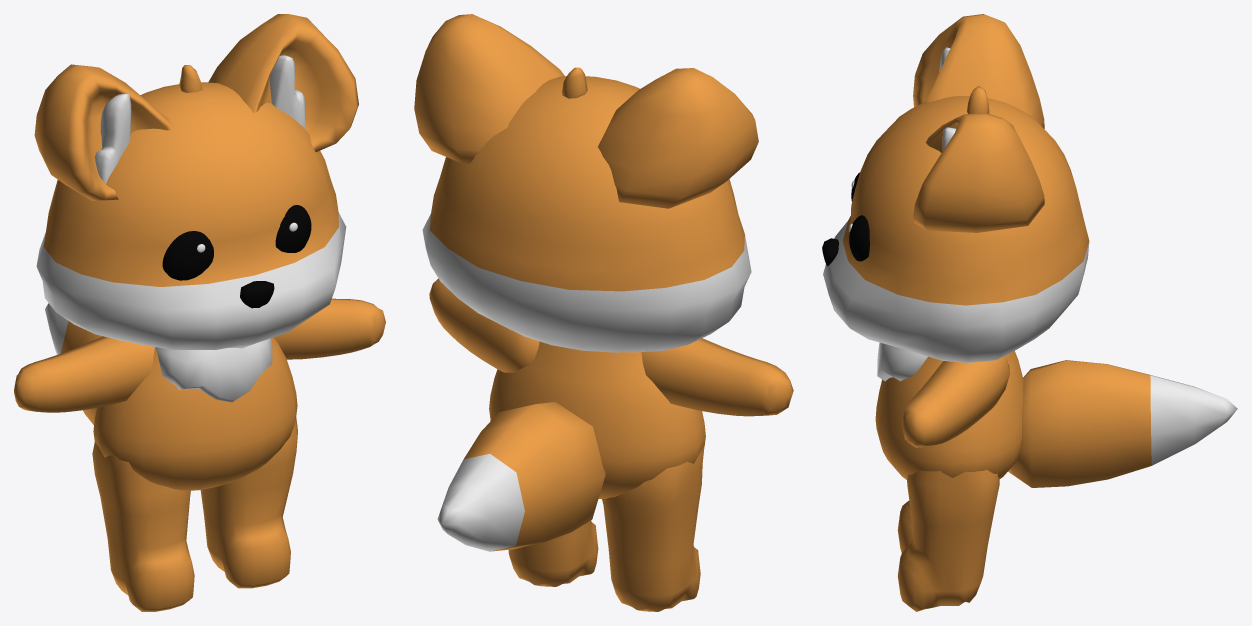
Rendered from fox.fbx.
3 renders of one model, left to right at view 1: azimuth 30°, elevation 25°; view 2: azimuth 150°, elevation 25°; view 3: azimuth 270°, elevation 25°, orthographic. The views are drawn at different scales.
Visible parts, largest first — view 1: pSphere1, pSphere2, pasted__pCube1, pasted__pCube5, pCube1, pasted__pCube4, pasted__pCube2, pCube5, pCube2, pasted__pCube6, pSphere3, pCube6 (+4 smaller); view 2: pSphere1, pCube3, pSphere2, pasted__pCube4, pasted__pCube5, pasted__pCube1, pasted__pCube2, pCube2, pCube1, pCube8; view 3: pSphere1, pCube3, pasted__pCube5, pCube1, pSphere2, pasted__pCube4, pCube2, pCube5, pSphere4, pasted__pCube1.
Boxes of the visible parts, x1,y1,x2,y2 form: pSphere1: (36, 82, 346, 349); pSphere2: (93, 337, 297, 490); pasted__pCube1: (92, 442, 194, 611); pasted__pCube5: (208, 14, 358, 151); pCube1: (200, 416, 297, 588); pasted__pCube4: (34, 64, 174, 200); pasted__pCube2: (14, 336, 154, 412); pCube5: (156, 338, 272, 402); pCube2: (274, 298, 385, 359); pasted__pCube6: (95, 93, 131, 183); pSphere3: (162, 231, 213, 280); pCube6: (269, 55, 305, 128); pSphere1: (422, 76, 751, 352); pCube3: (437, 402, 605, 551); pSphere2: (489, 341, 705, 498); pasted__pCube4: (598, 68, 758, 208); pasted__pCube5: (414, 14, 564, 164); pasted__pCube1: (602, 446, 704, 611); pasted__pCube2: (641, 338, 793, 416); pCube2: (429, 278, 539, 372); pCube1: (490, 420, 598, 586); pCube8: (562, 67, 587, 98); pSphere1: (823, 96, 1089, 362); pCube3: (1008, 360, 1237, 487); pasted__pCube5: (913, 112, 1044, 232); pCube1: (897, 470, 999, 611); pSphere2: (875, 351, 1023, 479); pasted__pCube4: (913, 14, 1044, 128); pCube2: (902, 355, 1009, 447); pCube5: (877, 342, 927, 381); pSphere4: (849, 215, 869, 261); pasted__pCube1: (897, 500, 913, 552).
Bounding box in the file's own units: 165 × 236 × 172.
